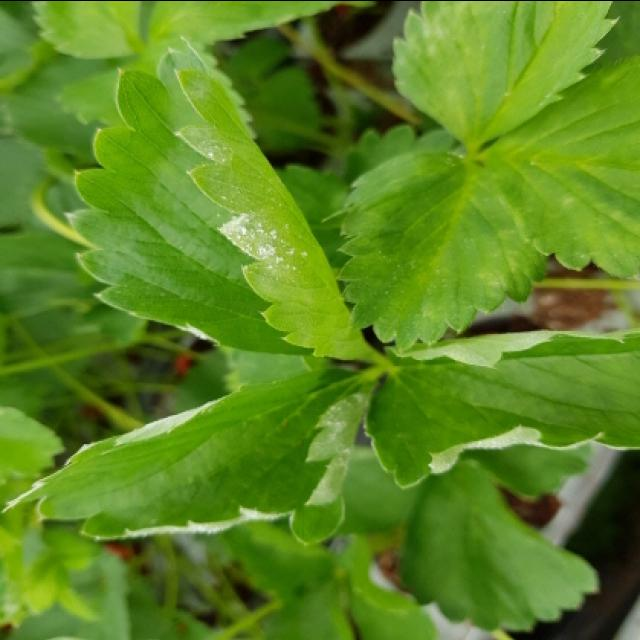Powdery Mildew Leaf: (65, 31, 382, 363), (1, 365, 377, 549), (362, 328, 638, 491)
